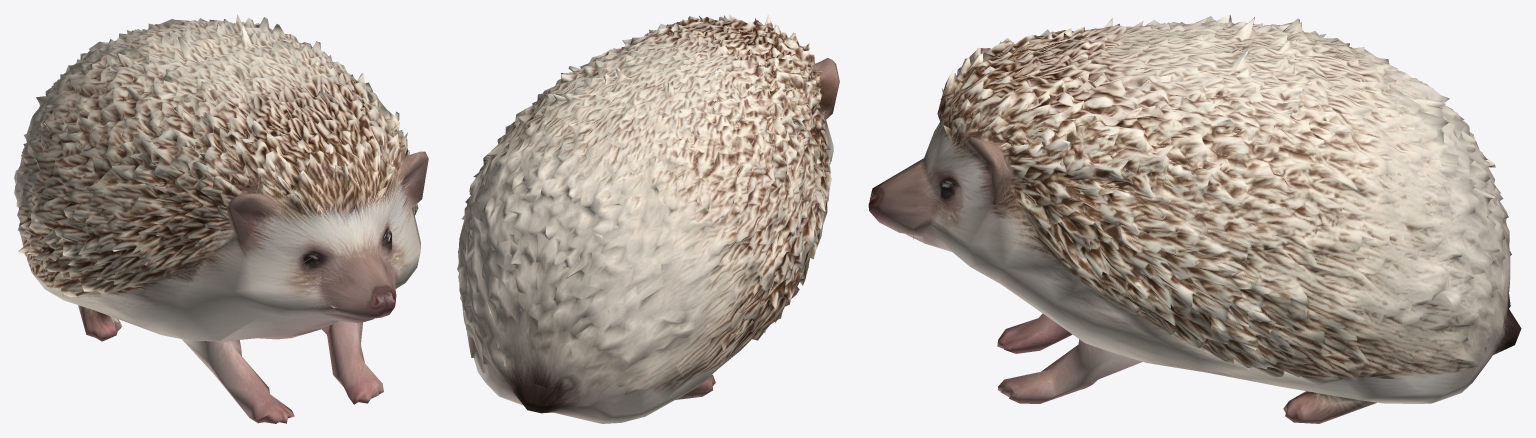
The model's file is hedgehog.glb.
The picture shows the model from 3 angles, left to right: view 1: azimuth 30°, elevation 25°; view 2: azimuth 150°, elevation 25°; view 3: azimuth 270°, elevation 25°; orthographic projection. The views are drawn at different scales.
Parts seen in each view (by area): view 1: Meshy_AI_Spiky_Little_Friend_0625163321_texture; view 2: Meshy_AI_Spiky_Little_Friend_0625163321_texture; view 3: Meshy_AI_Spiky_Little_Friend_0625163321_texture.
Part boxes in pixels (x1,y1,x2,y2): Meshy_AI_Spiky_Little_Friend_0625163321_texture: [14, 14, 428, 423]; Meshy_AI_Spiky_Little_Friend_0625163321_texture: [457, 14, 839, 423]; Meshy_AI_Spiky_Little_Friend_0625163321_texture: [868, 14, 1521, 423].
Size of the model in its own units: 1.23 by 1.1 by 1.91.
Materials: 1 (1 with a texture image).
